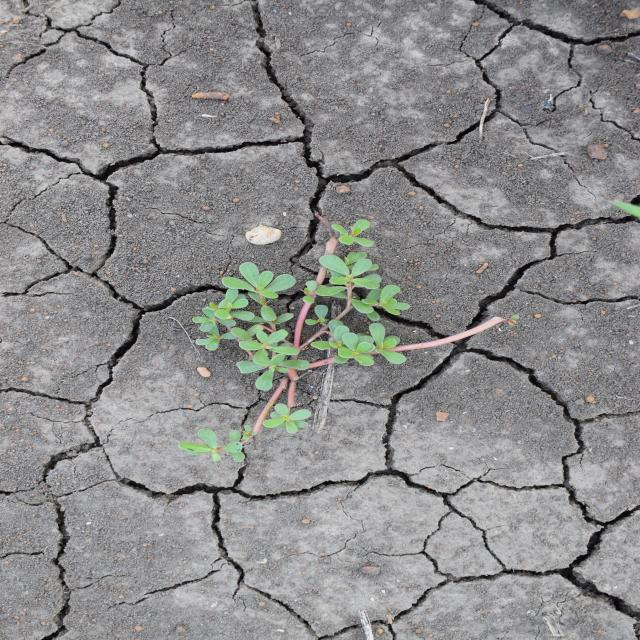SpottedSpurge: (171, 218, 523, 466)
